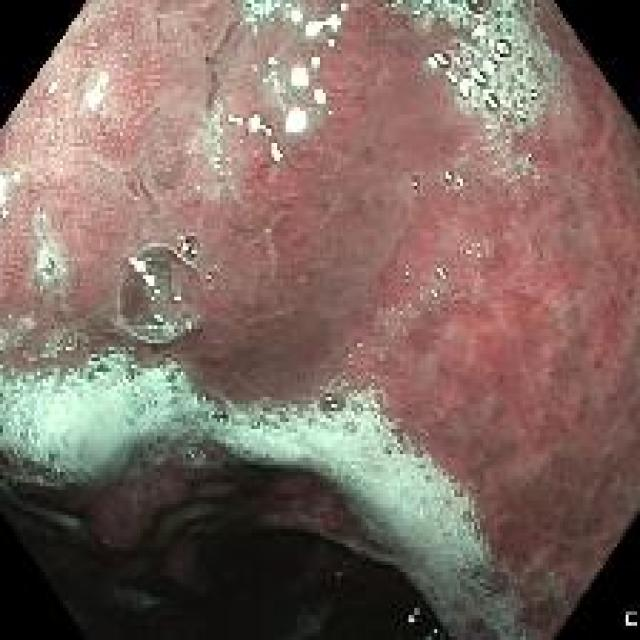bubbles: (363, 438, 533, 637), (3, 369, 215, 490), (400, 4, 558, 160), (218, 390, 405, 511), (115, 243, 206, 340), (15, 328, 147, 384), (250, 386, 370, 441), (448, 474, 498, 582), (343, 300, 419, 367), (372, 386, 426, 465), (2, 391, 36, 441), (195, 386, 227, 427), (437, 167, 467, 195), (426, 261, 446, 302), (177, 235, 201, 267), (461, 236, 489, 260), (39, 254, 60, 283), (396, 262, 419, 287), (406, 170, 424, 194), (407, 604, 423, 629), (423, 622, 440, 638)
contrast: (203, 515, 444, 637), (24, 521, 203, 633)
specularity: (471, 22, 510, 55), (127, 254, 159, 292), (1, 164, 23, 216), (306, 15, 341, 45), (246, 109, 274, 140), (83, 69, 107, 103), (248, 0, 281, 24), (261, 49, 278, 92), (178, 233, 201, 260), (280, 106, 306, 129), (269, 134, 288, 163), (456, 75, 474, 104), (223, 106, 244, 125), (148, 305, 167, 326), (406, 605, 423, 628), (180, 318, 200, 335), (425, 54, 447, 69), (322, 391, 338, 410), (289, 66, 305, 84), (482, 92, 498, 110), (312, 88, 327, 106), (290, 6, 303, 26), (323, 35, 336, 55), (41, 78, 57, 94), (172, 288, 186, 306), (43, 256, 56, 275), (308, 52, 321, 70), (445, 71, 457, 85), (425, 628, 437, 638), (216, 411, 224, 423), (199, 392, 206, 404)
